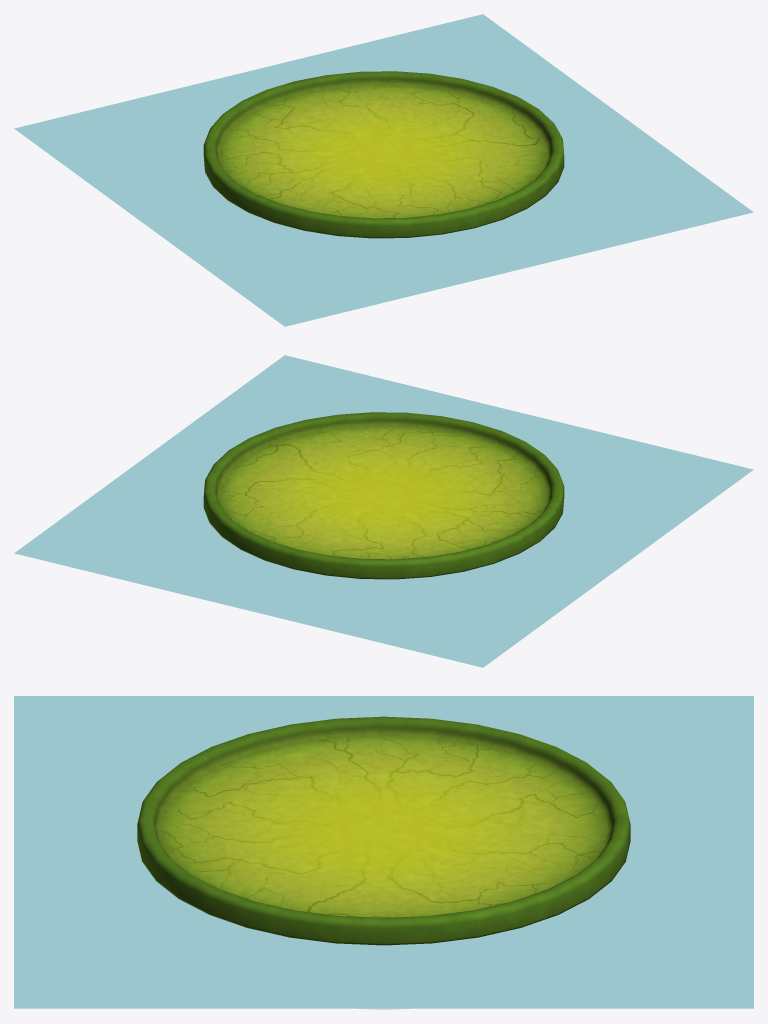
File: LilyPad_Pond.gltf
3 views of the same model, one above another, from view 1: azimuth 30°, elevation 25°; view 2: azimuth 150°, elevation 25°; view 3: azimuth 270°, elevation 25° (orthographic). The views are drawn at different scales.
Parts seen in each view (by area): view 1: Water, LilyPad.001; view 2: Water, LilyPad.001; view 3: Water, LilyPad.001.
Boxes of the visible parts, bbox=[...] form: Water: bbox=[14, 14, 753, 326]; LilyPad.001: bbox=[203, 71, 564, 238]; Water: bbox=[14, 355, 753, 667]; LilyPad.001: bbox=[203, 412, 564, 579]; Water: bbox=[14, 696, 753, 1008]; LilyPad.001: bbox=[137, 716, 630, 945].
Bounding box in the file's own units: 3 × 0.1902 × 3.
Materials: 3 (1 with a texture image).
